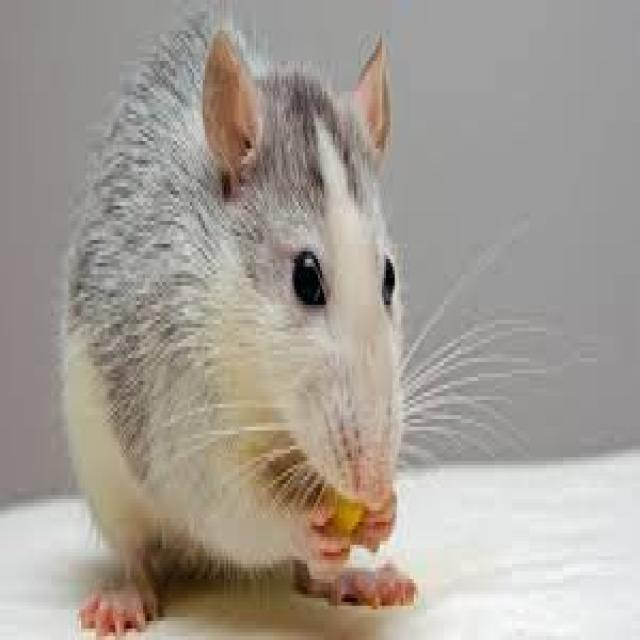rat: (68, 19, 506, 632)
